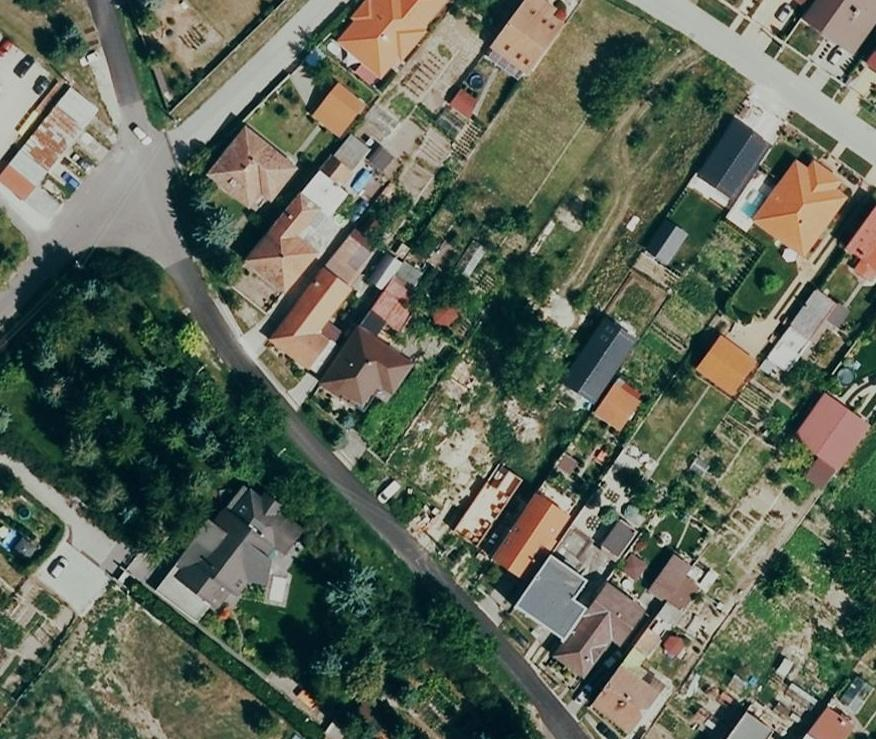field: (0, 587, 291, 737), (464, 0, 648, 235)
forest: (7, 250, 282, 560), (257, 460, 539, 737)
